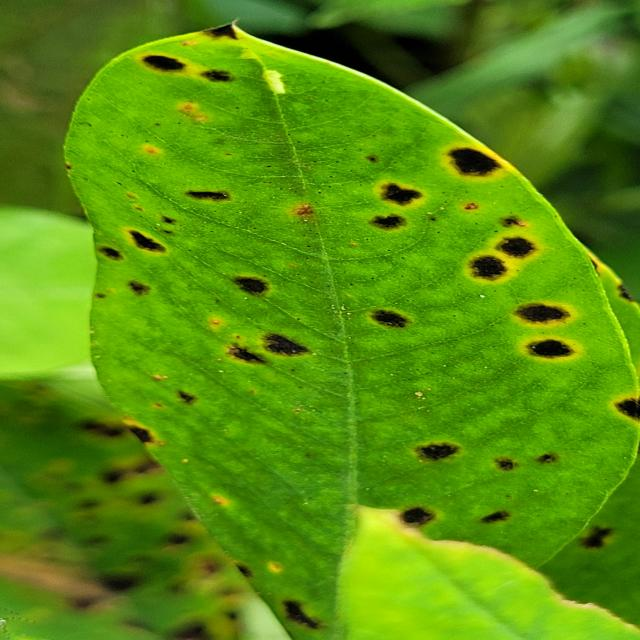Ground nut_tikka leaf spot: (57, 21, 640, 637)
